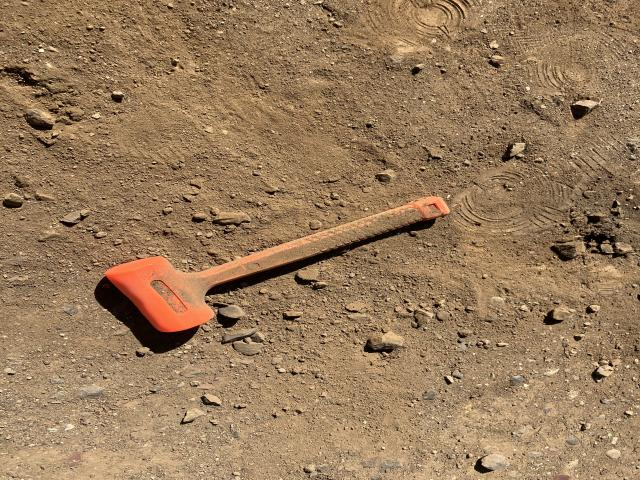hammer: (102, 194, 452, 334)
